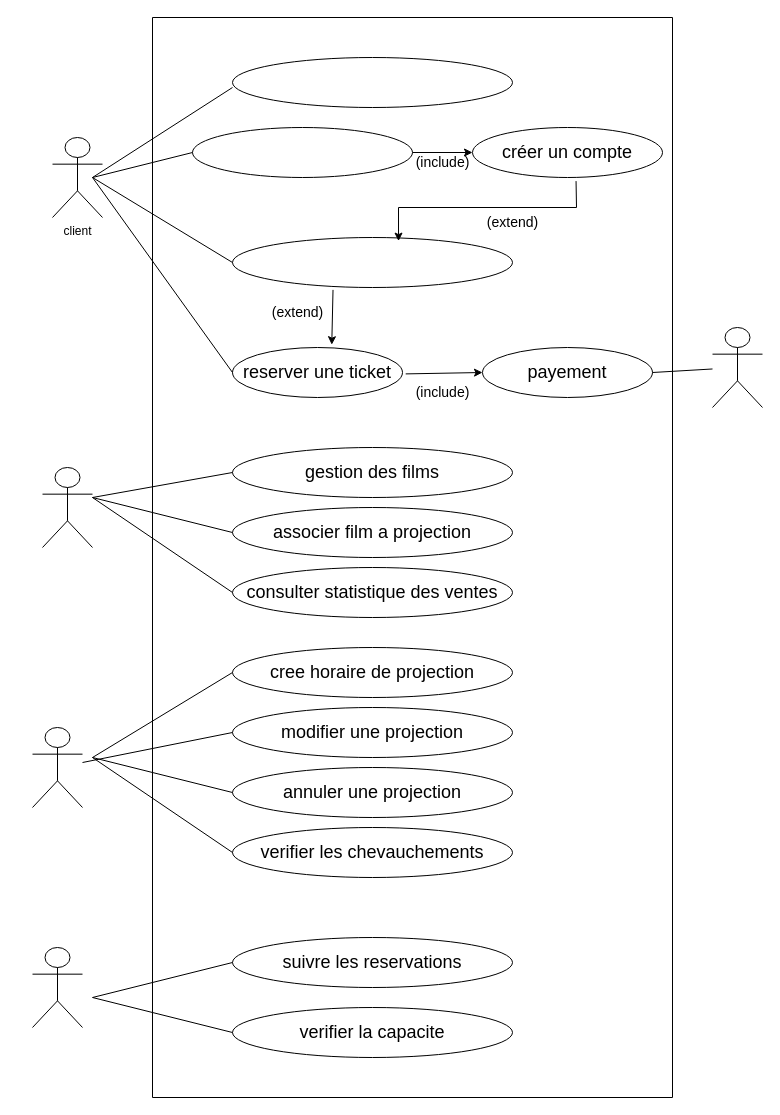
Image size: 780x1115. Some labels were removed from this diagram. The shapes that lost their labels are listed below. From the top down, each one's box as (x1, y1, x2, y2) in pixels, then its label:
(232, 56, 512, 108): consulter site web
(192, 126, 412, 178): reserver un film
(232, 236, 512, 288): consulter les films dispo
(712, 326, 762, 408): bank
(42, 466, 92, 548): admin
(32, 726, 82, 808): responsable des projections
(32, 946, 82, 1028): responsable des tickets
